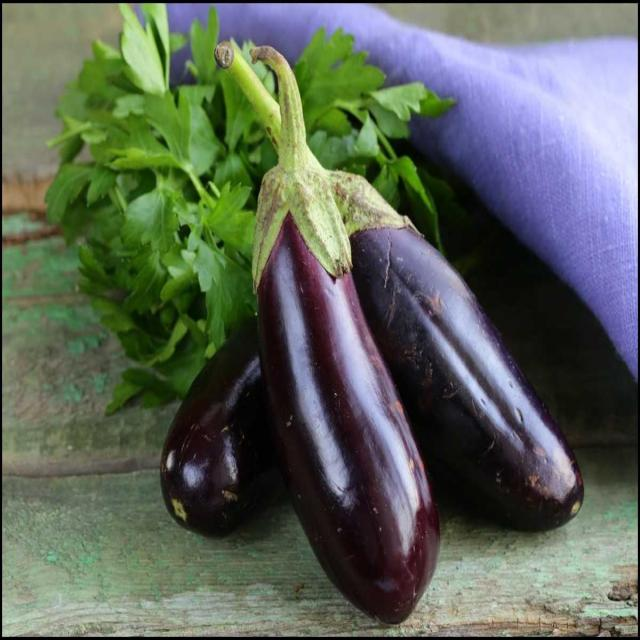Eggplant-r1Ob: (252, 49, 439, 622), (350, 228, 584, 530)
